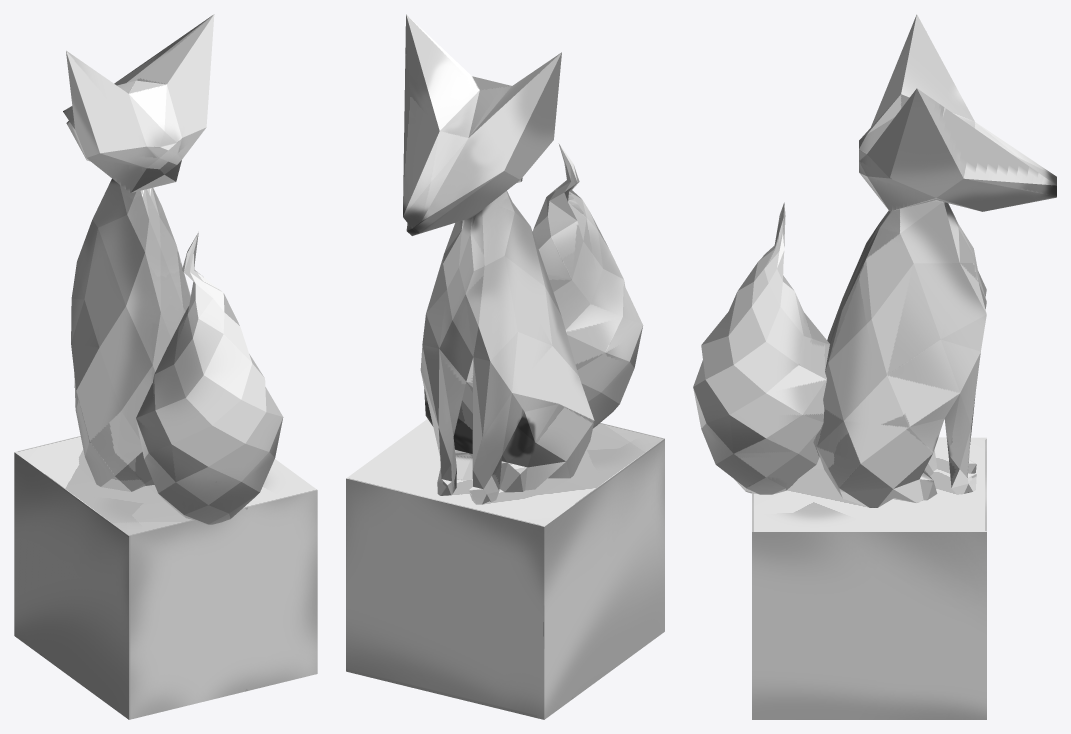
The model's file is estatua_raposa_2.fbx.
3 renders of one model, left to right at view 1: azimuth 30°, elevation 25°; view 2: azimuth 150°, elevation 25°; view 3: azimuth 270°, elevation 25°, orthographic. The views are drawn at different scales.
Parts seen in each view (by area): view 1: Cube; view 2: Cube; view 3: Cube.
Part boxes in pixels (box(x1,y1,x2,y2)): Cube: box(14, 14, 317, 719); Cube: box(346, 14, 664, 719); Cube: box(693, 14, 1056, 719).
Bounding box in the file's own units: 33.4 × 103 × 54.51.
